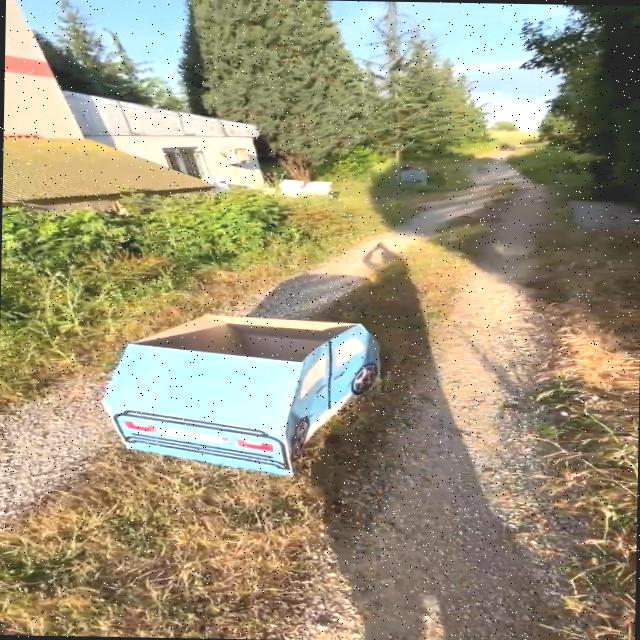blue_car: (68, 282, 433, 505)
